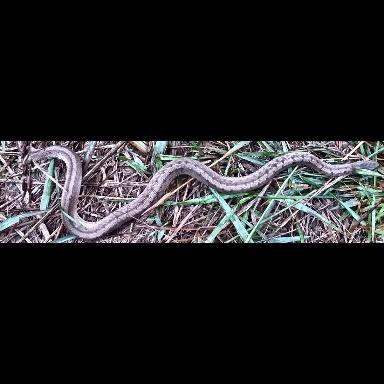snake: (24, 146, 380, 240)
